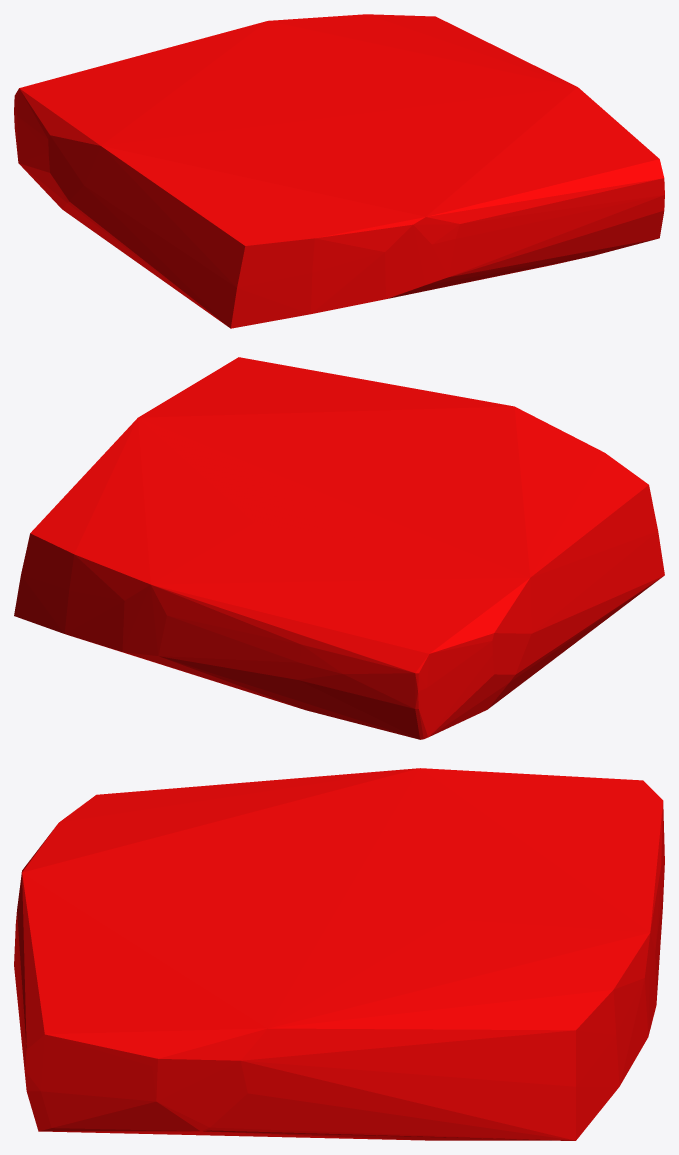
Rendered from wrist_pitch_0091_convex_hull_06.obj.
3 views of the same model, one above another, from view 1: azimuth 30°, elevation 25°; view 2: azimuth 150°, elevation 25°; view 3: azimuth 270°, elevation 25° (orthographic). The views are drawn at different scales.
Parts seen in each view (by area): view 1: wrist_pitch_0091_convex_hull_06; view 2: wrist_pitch_0091_convex_hull_06; view 3: wrist_pitch_0091_convex_hull_06.
Part boxes in pixels (x1,y1,x2,y2): wrist_pitch_0091_convex_hull_06: (14, 14, 664, 328); wrist_pitch_0091_convex_hull_06: (14, 357, 664, 739); wrist_pitch_0091_convex_hull_06: (14, 768, 664, 1140).
Bounding box in the file's own units: 0.063 × 0.0139 × 0.0634.
